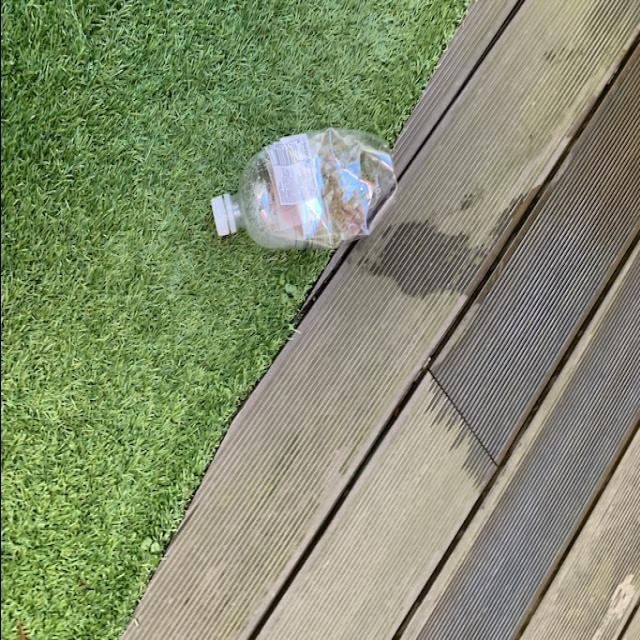PET: (210, 119, 398, 261)
